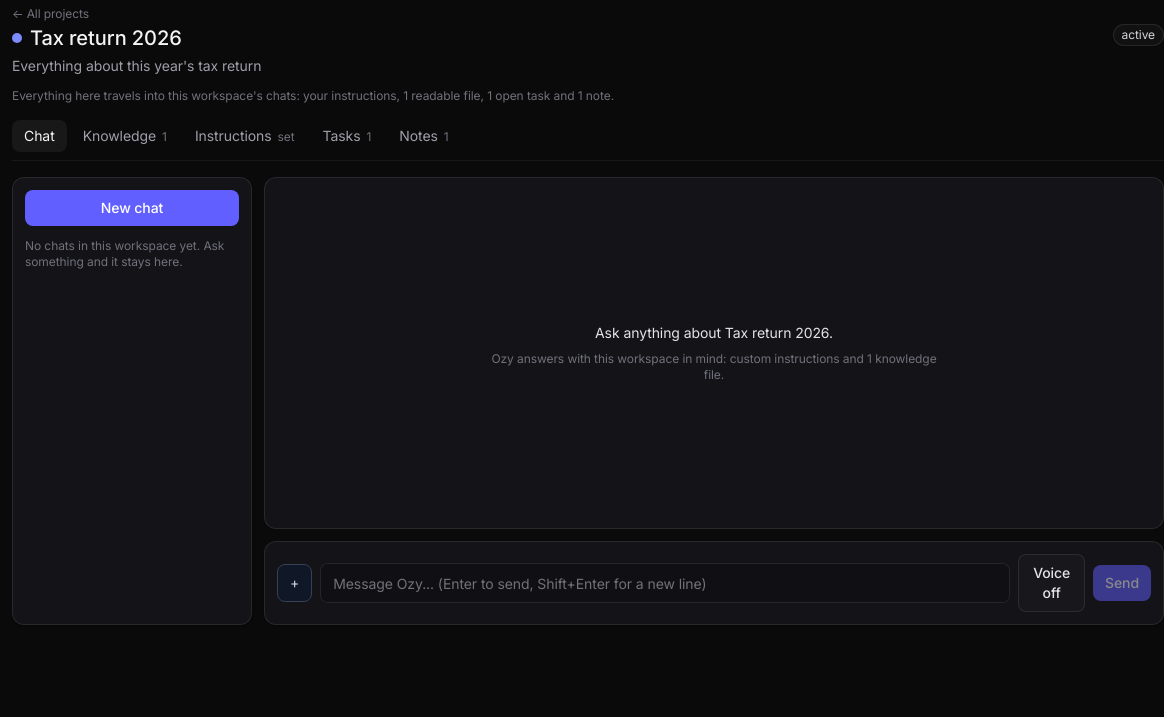
Test: ProjectWorkspacePage › switches to the knowledge section
Click the tab "Knowledge1" at (125, 136), box [71,120,179,152]
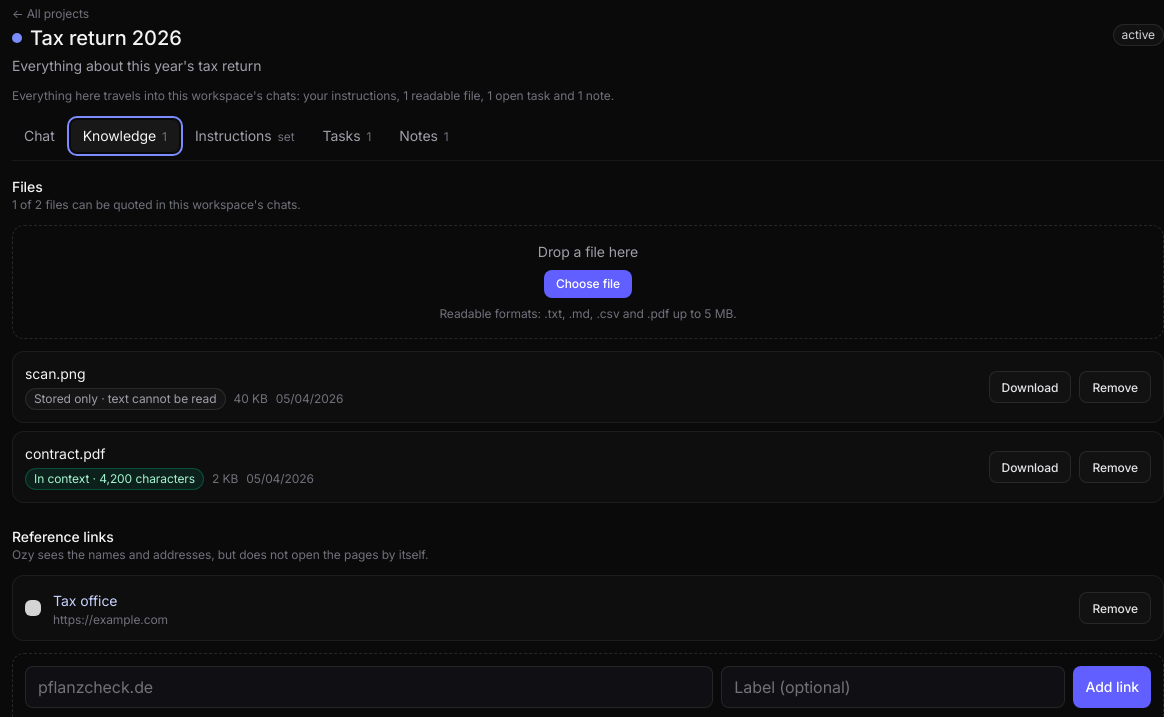
Now the heading "Files" is shown, box [12,178,43,195]
